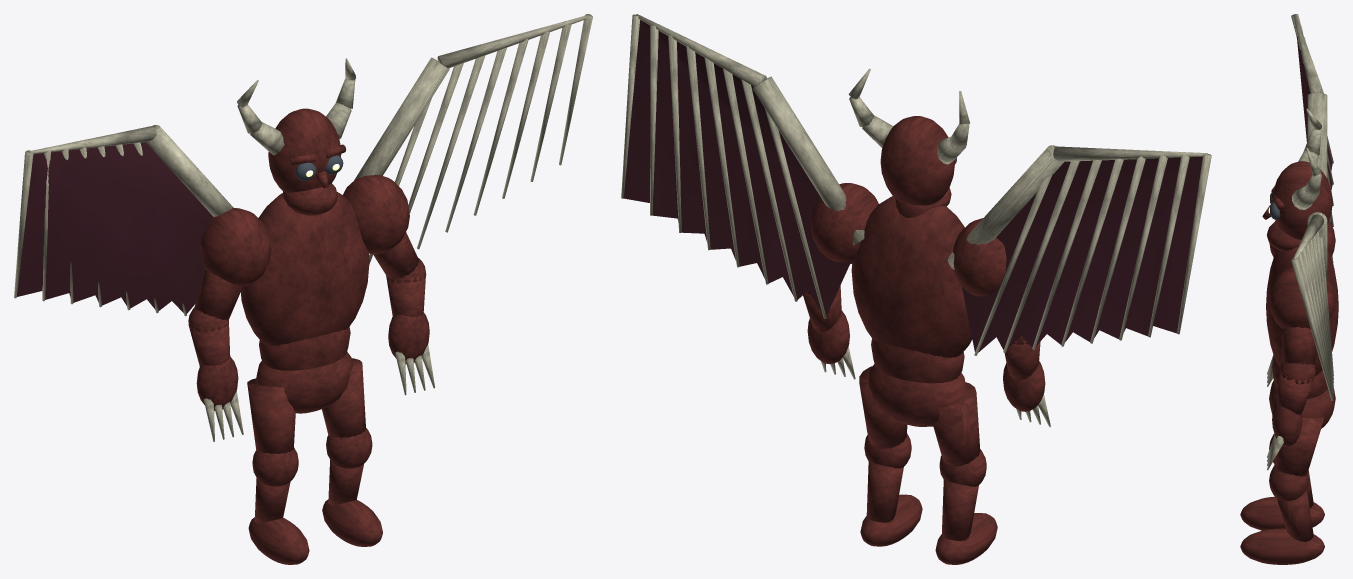
The model's file is enemy_succubus.glb.
3 views of the same model, side by side, from view 1: azimuth 30°, elevation 25°; view 2: azimuth 150°, elevation 25°; view 3: azimuth 270°, elevation 25° (orthographic). The views are drawn at different scales.
Parts seen in each view (by area): view 1: Worn_crimson_cloth, Demon_hide, Aged_bone.004, Demon_hide.002, Demon_hide.004, Demon_hide.001, Demon_hide.003, Aged_bone.003, Demon_hide.005, Aged_bone.002, Aged_bone.001, Aged_bone; view 2: Worn_crimson_cloth, Worn_crimson_cloth.001, Demon_hide, Aged_bone.004, Aged_bone.003, Demon_hide.001, Demon_hide.003, Demon_hide.005, Demon_hide.004, Demon_hide.002, Aged_bone.002; view 3: Demon_hide.003, Demon_hide.004, Aged_bone.004, Demon_hide, Demon_hide.005, Aged_bone.003, Demon_hide.001, Aged_bone.002, Worn_crimson_cloth, Aged_bone.001, Demon_hide.002, Eye_socket.
Part boxes in pixels (x1,y1,x2,y2): Worn_crimson_cloth: [17, 142, 213, 313]; Demon_hide: [240, 192, 369, 413]; Aged_bone.004: [354, 14, 592, 264]; Demon_hide.002: [188, 208, 271, 410]; Demon_hide.004: [343, 175, 429, 364]; Demon_hide.001: [247, 378, 309, 564]; Demon_hide.003: [322, 358, 382, 546]; Aged_bone.003: [14, 125, 233, 316]; Demon_hide.005: [268, 108, 346, 215]; Aged_bone.002: [237, 58, 355, 155]; Aged_bone.001: [395, 344, 434, 395]; Aged_bone: [204, 391, 243, 441]; Worn_crimson_cloth: [962, 156, 1202, 352]; Worn_crimson_cloth.001: [623, 20, 851, 316]; Demon_hide: [851, 196, 972, 426]; Aged_bone.004: [621, 14, 864, 318]; Aged_bone.003: [947, 145, 1211, 355]; Demon_hide.001: [933, 382, 997, 564]; Demon_hide.003: [859, 366, 922, 546]; Demon_hide.005: [880, 116, 954, 217]; Demon_hide.004: [803, 183, 878, 364]; Demon_hide.002: [953, 218, 1045, 411]; Aged_bone.002: [848, 68, 969, 164]; Demon_hide.003: [1240, 416, 1324, 564]; Demon_hide.004: [1269, 267, 1335, 446]; Aged_bone.004: [1291, 212, 1333, 400]; Demon_hide: [1266, 246, 1338, 428]; Demon_hide.005: [1262, 161, 1332, 251]; Aged_bone.003: [1291, 14, 1333, 265]; Demon_hide.001: [1240, 433, 1324, 530]; Aged_bone.002: [1292, 108, 1321, 209]; Worn_crimson_cloth: [1297, 36, 1332, 225]; Aged_bone.001: [1267, 434, 1283, 470]; Demon_hide.002: [1269, 220, 1335, 257]; Eye_socket: [1270, 192, 1280, 219].
Size of the model in its own units: 4.23 by 3.35 by 0.715.
5 materials, 3 textured.
